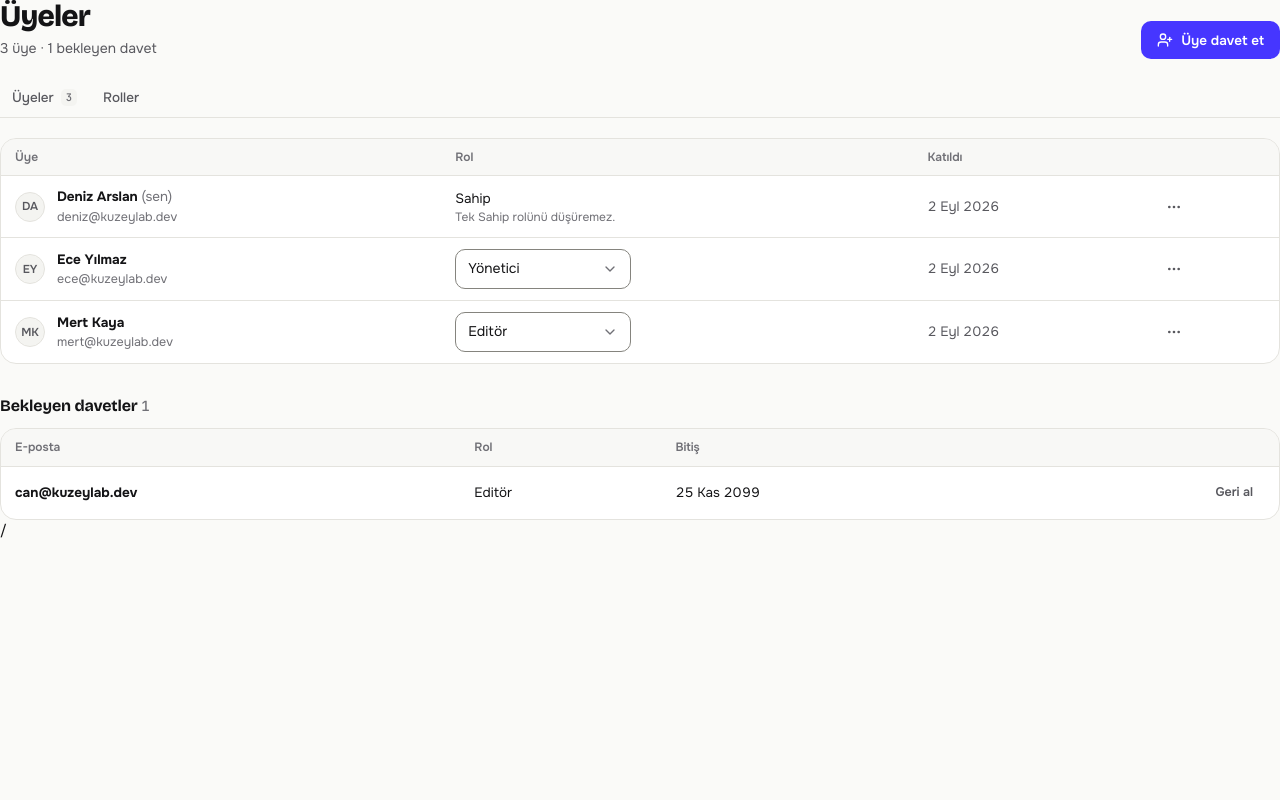
Test: MembersPage › tells the only owner to hand over ownership before leaving
Click the button named "Deniz Arslan için eylemler" at (1174, 207), box [1159,192,1189,222]
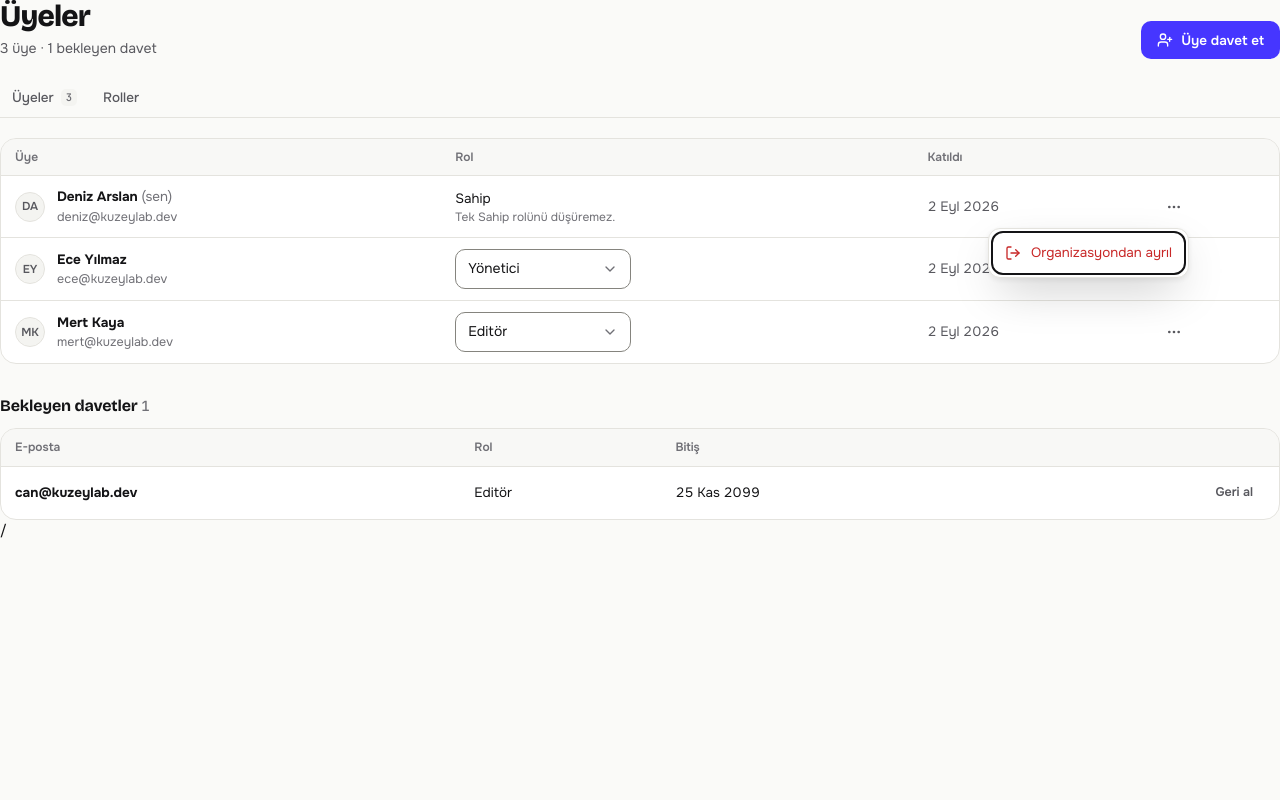
Click the menu item "Organizasyondan ayrıl" at (1088, 253), box [995,235,1182,271]
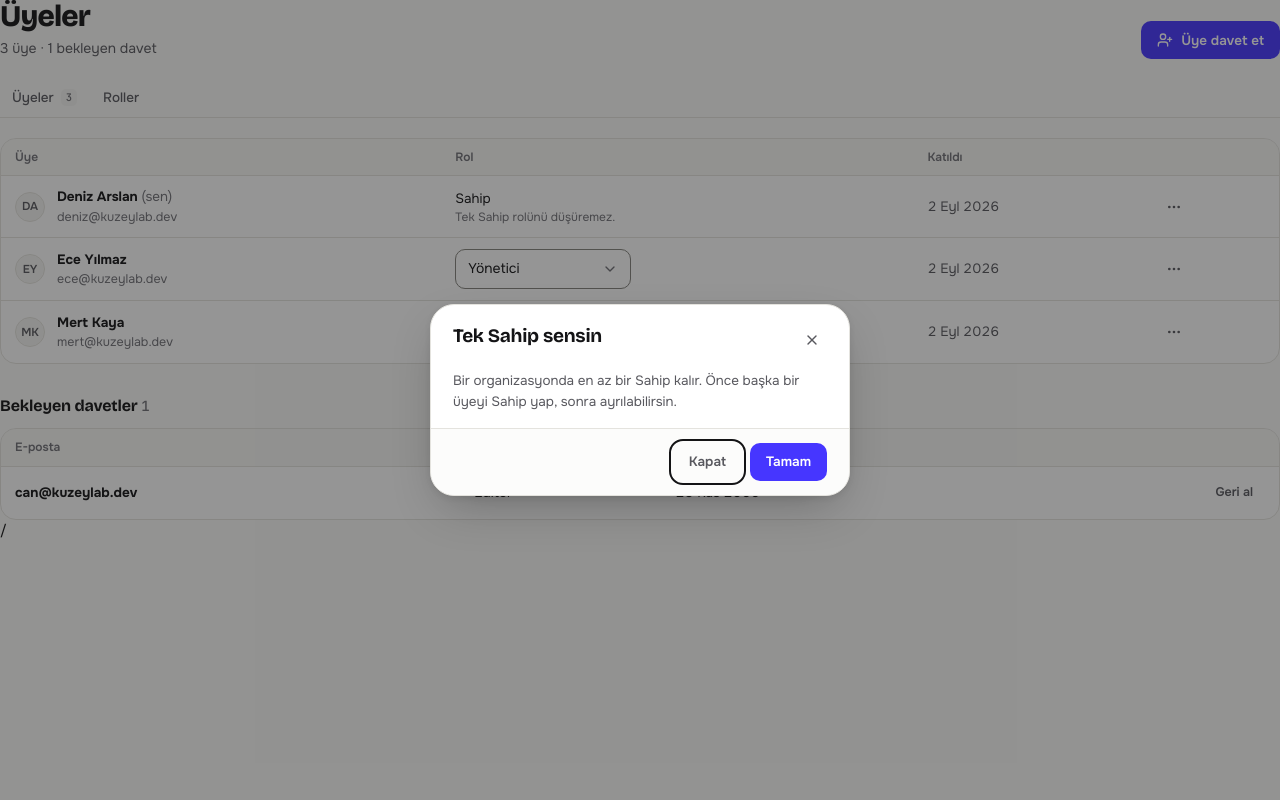
expect the dialog "Tek Sahip sensin" is shown: met, box [430,304,850,496]
